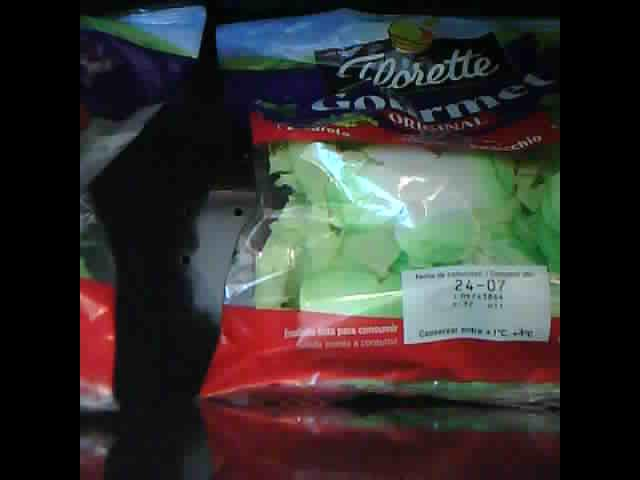florette: (194, 14, 562, 406), (81, 3, 211, 419)
